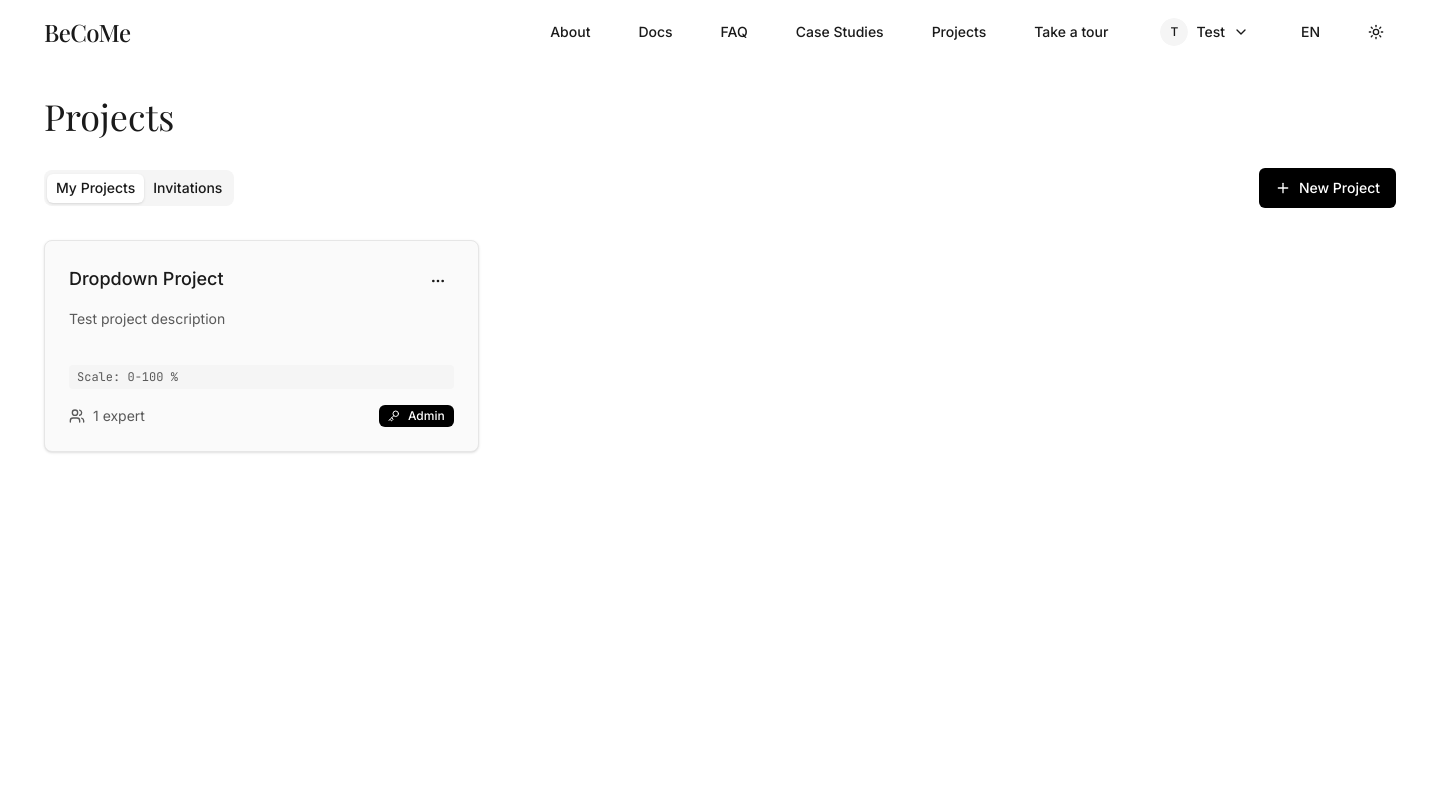
Projects › Dropdown Menu › clicking Delete opens DeleteConfirmModal
Expected: the link "Dropdown Project" is shown, [69, 265, 224, 293]
Click the button named "project options". click: {"x": 438, "y": 281}
box: [422, 265, 454, 297]
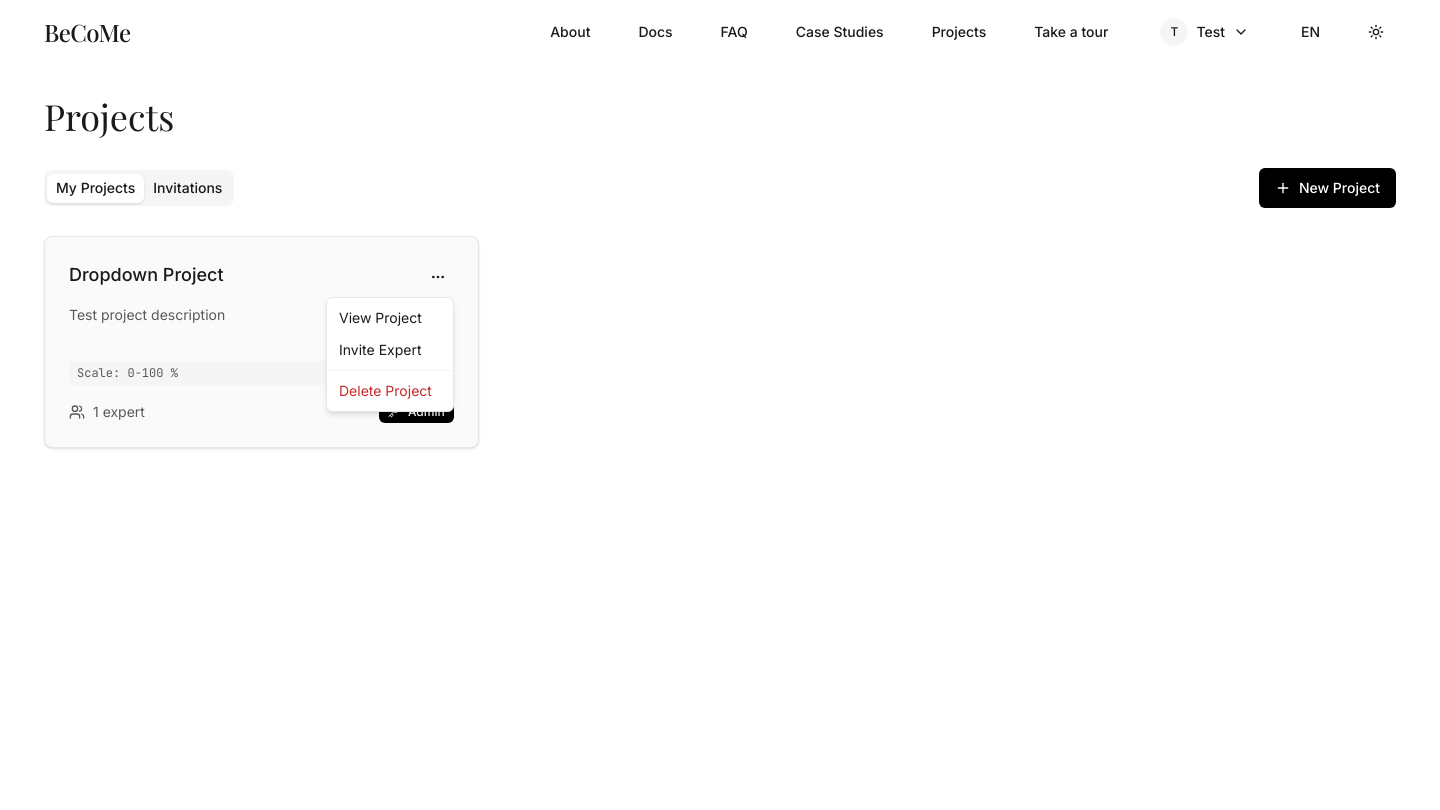
Click the menu item "Delete Project". click: {"x": 385, "y": 390}
box: [339, 382, 432, 399]
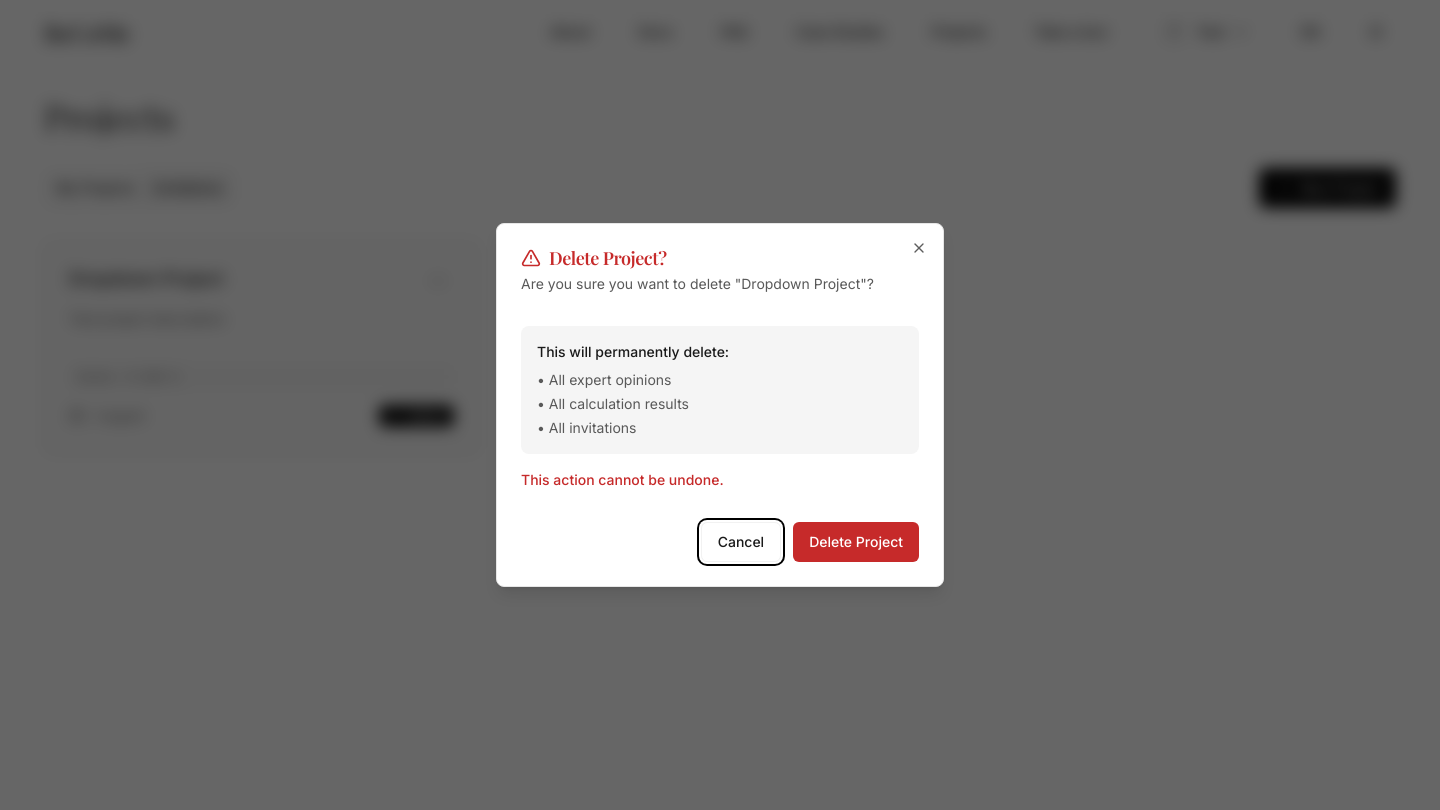
Expected: the dialog is shown, [496, 223, 944, 587]
Expected: the heading "Delete Project?" is shown, [521, 246, 667, 270]
